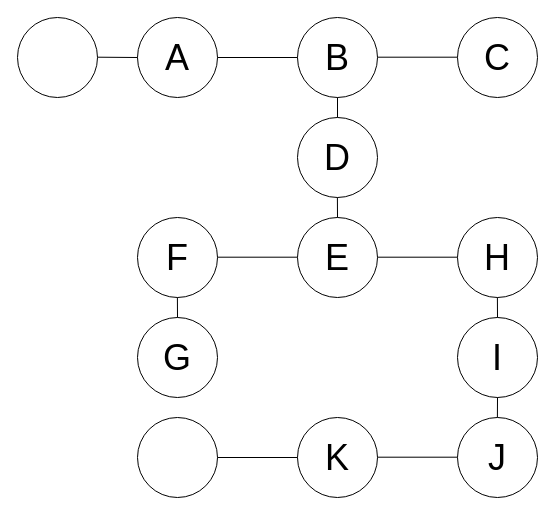
This 555x515 diagram has some shape labels left out. The centre of each missing label's shape, as x and y in pixels:
"END" goes at pixel 177 457.
"START" goes at pixel 57 57.
